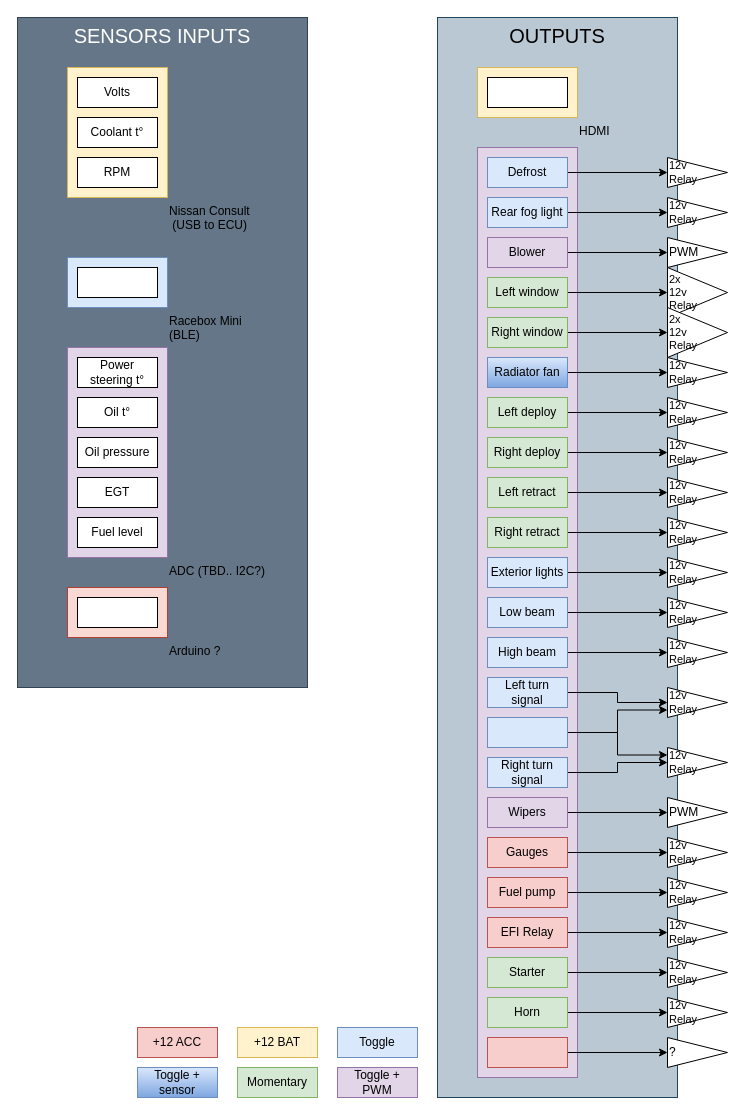
The diagram is 745 pixels wide and 1116 high, and some of its shapes have lost their labels. The centre of each missing label's shape, as x and y in pixels:
"Display" goes at pixel 527 92.
"Hazards" goes at pixel 527 732.
"On/Off RPI" goes at pixel 527 1052.
"Power on/off signal" goes at pixel 117 612.
"Speed" goes at pixel 117 282.
